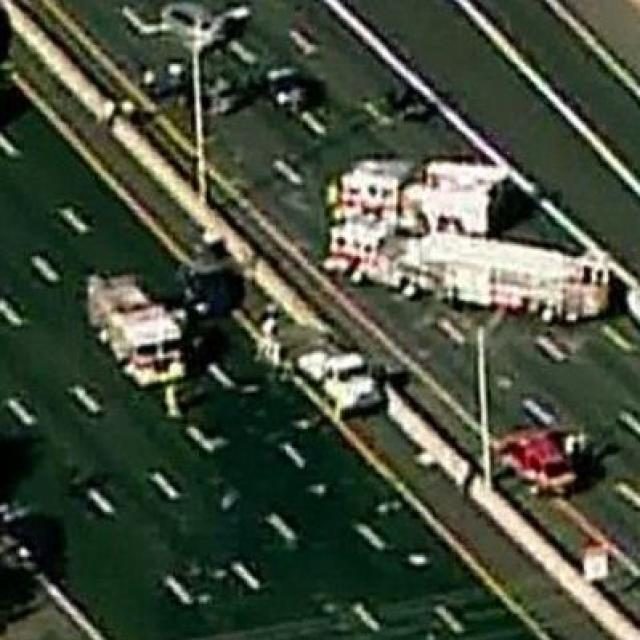traffic_incident: (313, 157, 614, 315)
